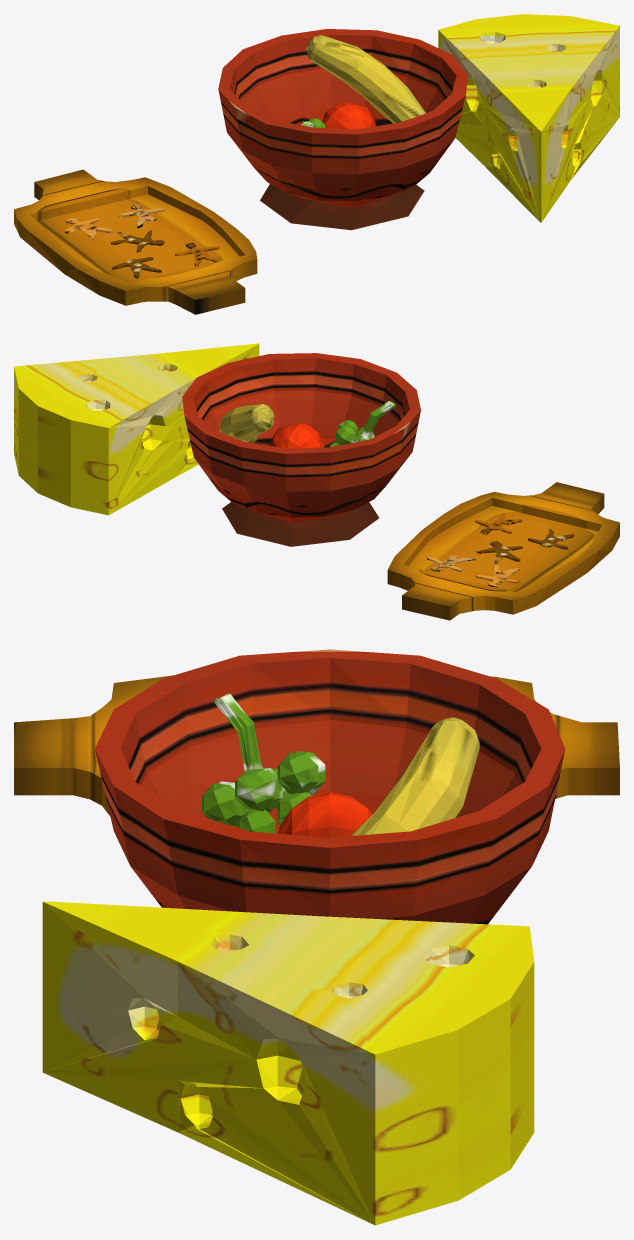
File: refresh.glb
The picture shows the model from 3 angles, top to bottom: view 1: azimuth 30°, elevation 25°; view 2: azimuth 150°, elevation 25°; view 3: azimuth 270°, elevation 25°; orthographic projection. The views are drawn at different scales.
Parts seen in each view (by area): view 1: refresh; view 2: refresh; view 3: refresh.
Part boxes in pixels (x1=…): refresh: x1=14, y1=14, x2=619, y2=314; refresh: x1=14, y1=343, x2=619, y2=620; refresh: x1=14, y1=649, x2=619, y2=1225.
Bounding box in the file's own units: 1598 × 354 × 776.
Materials: 1 (1 with a texture image).
